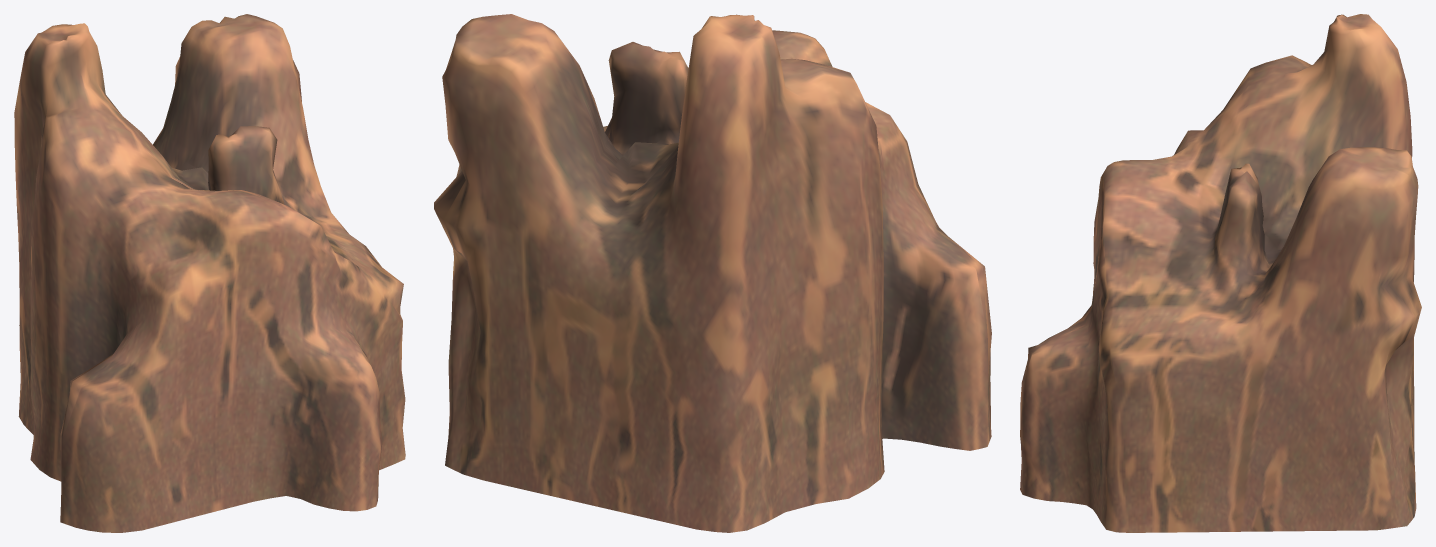
File: Rock_04_Unity.FBX
3 views of the same model, side by side, from view 1: azimuth 30°, elevation 25°; view 2: azimuth 150°, elevation 25°; view 3: azimuth 270°, elevation 25° (orthographic). The views are drawn at different scales.
Visible parts, largest first — view 1: Rock_04; view 2: Rock_04; view 3: Rock_04.
Part boxes in pixels (left/top/right/bottom): Rock_04: left=14, top=14, right=405, bottom=532; Rock_04: left=434, top=14, right=991, bottom=532; Rock_04: left=1020, top=14, right=1421, bottom=532.
Bounding box in the file's own units: 315 × 360 × 326.
Materials: 1 (1 with a texture image).
